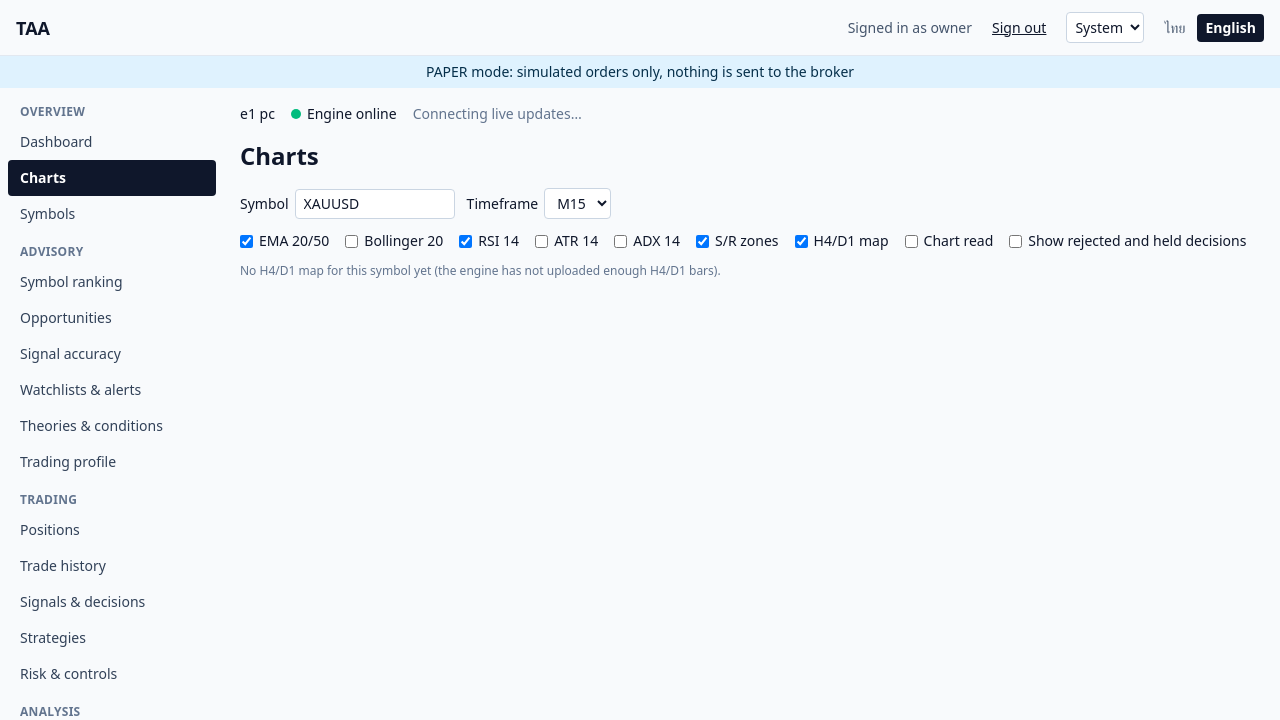
Test: charts page › opens a symbol that has candles and lists the charted symbols first
Click the dropdown labelled "Symbol": click(375, 204) top-left (295, 188), bottom-right (455, 218)
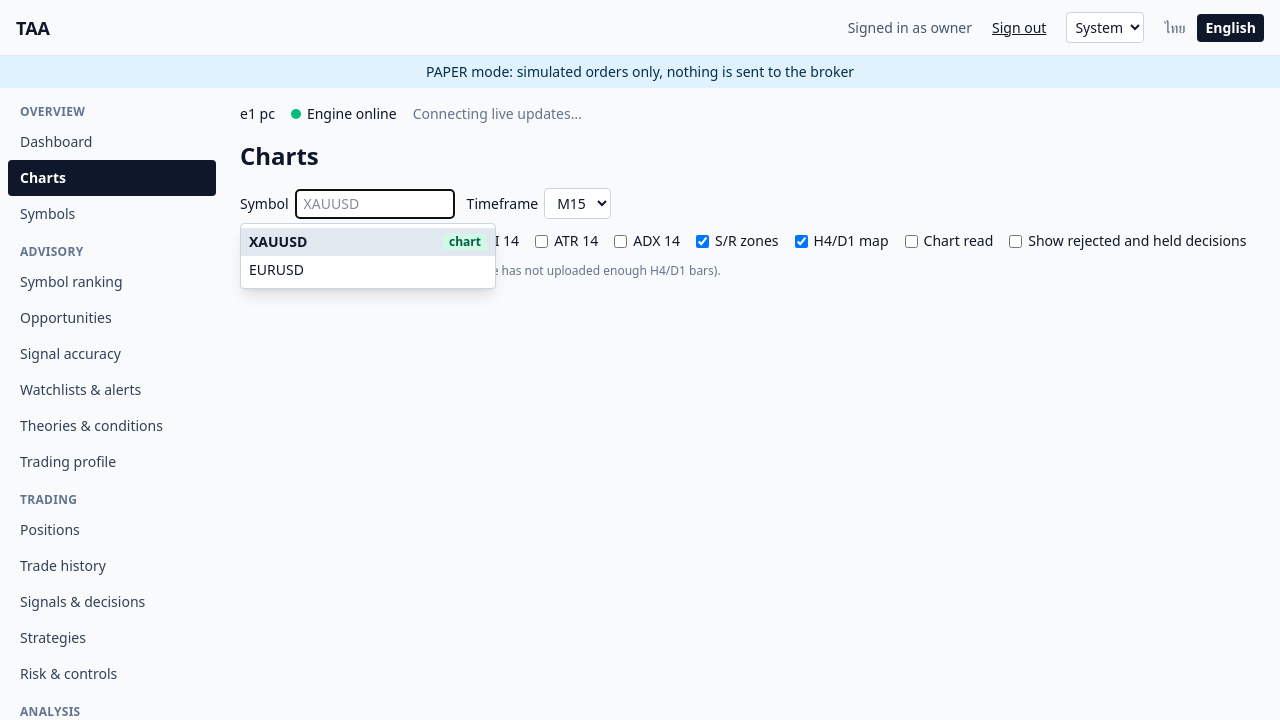
expect the options read "XAUUSDchart", "EURUSD", in this order: met, box top-left (241, 228), bottom-right (495, 256); top-left (249, 260), bottom-right (304, 278)
Type keys "zzz"
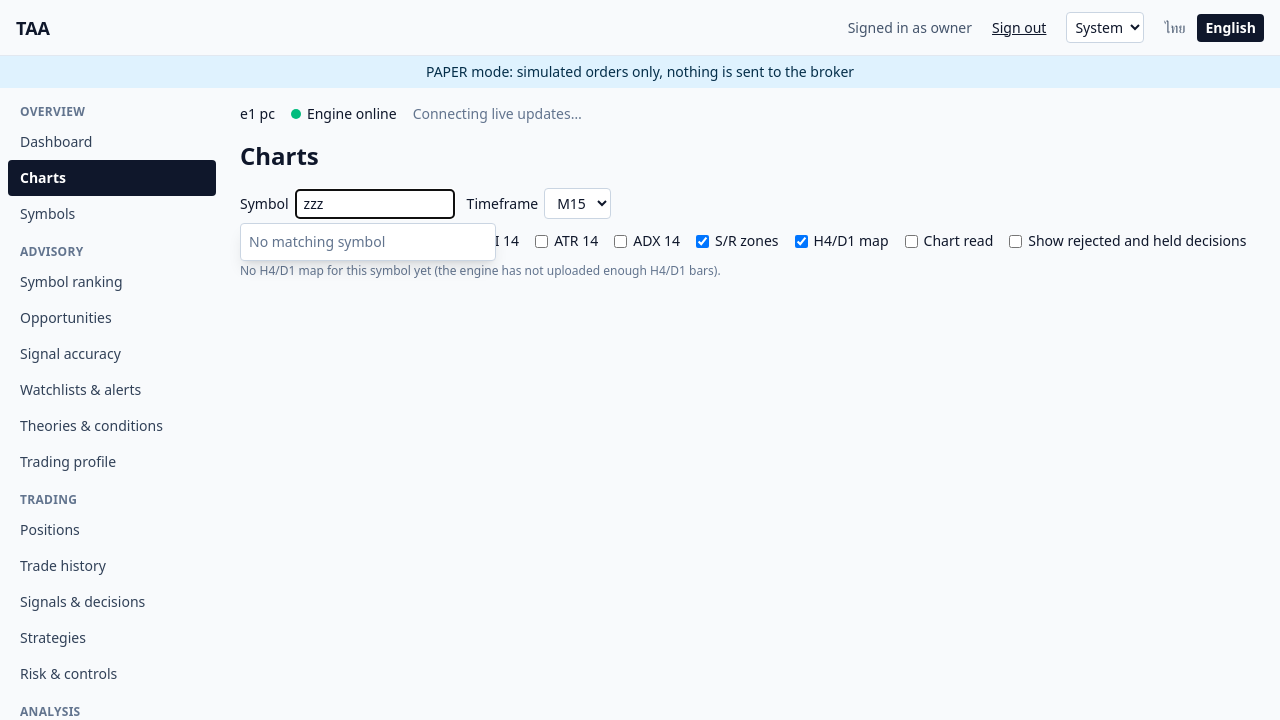
expect the list item "No matching symbol" is shown: met, box top-left (249, 232), bottom-right (385, 250)
Press Escape
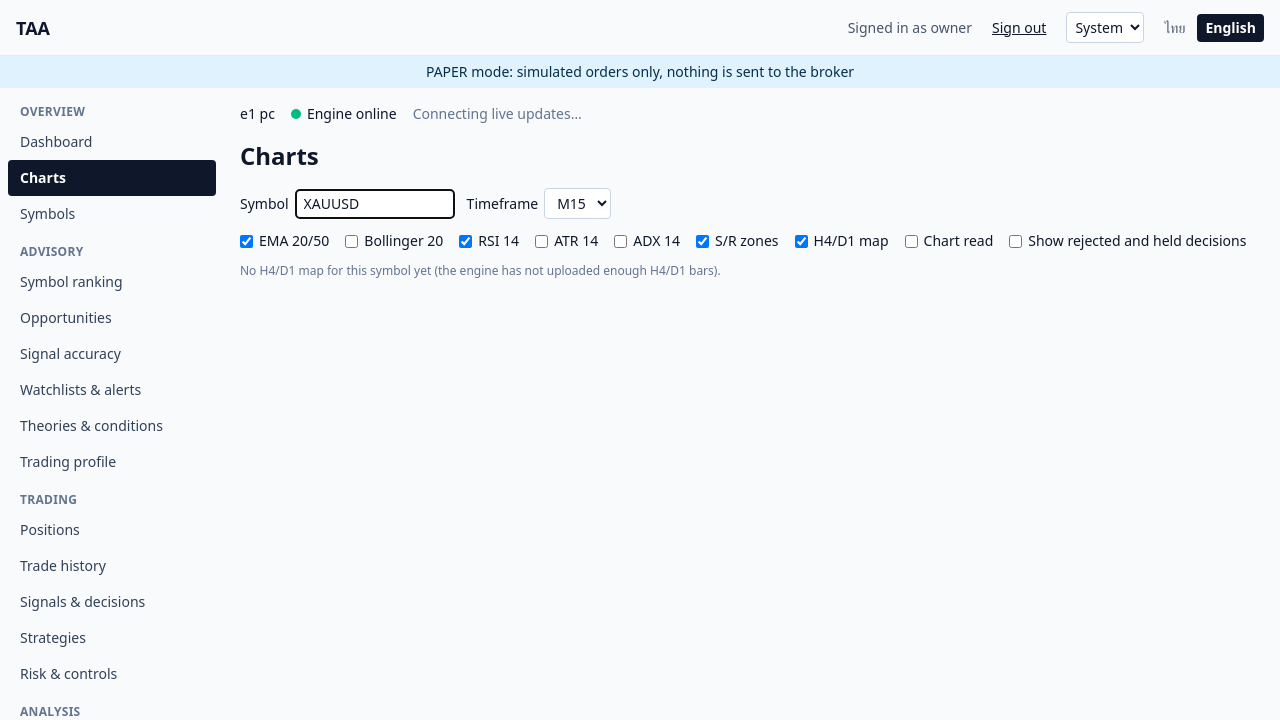
expect the list "No matching symbol" is gone: met
expect the dropdown labelled "Symbol" holds "XAUUSD": met, box top-left (295, 188), bottom-right (455, 218)
